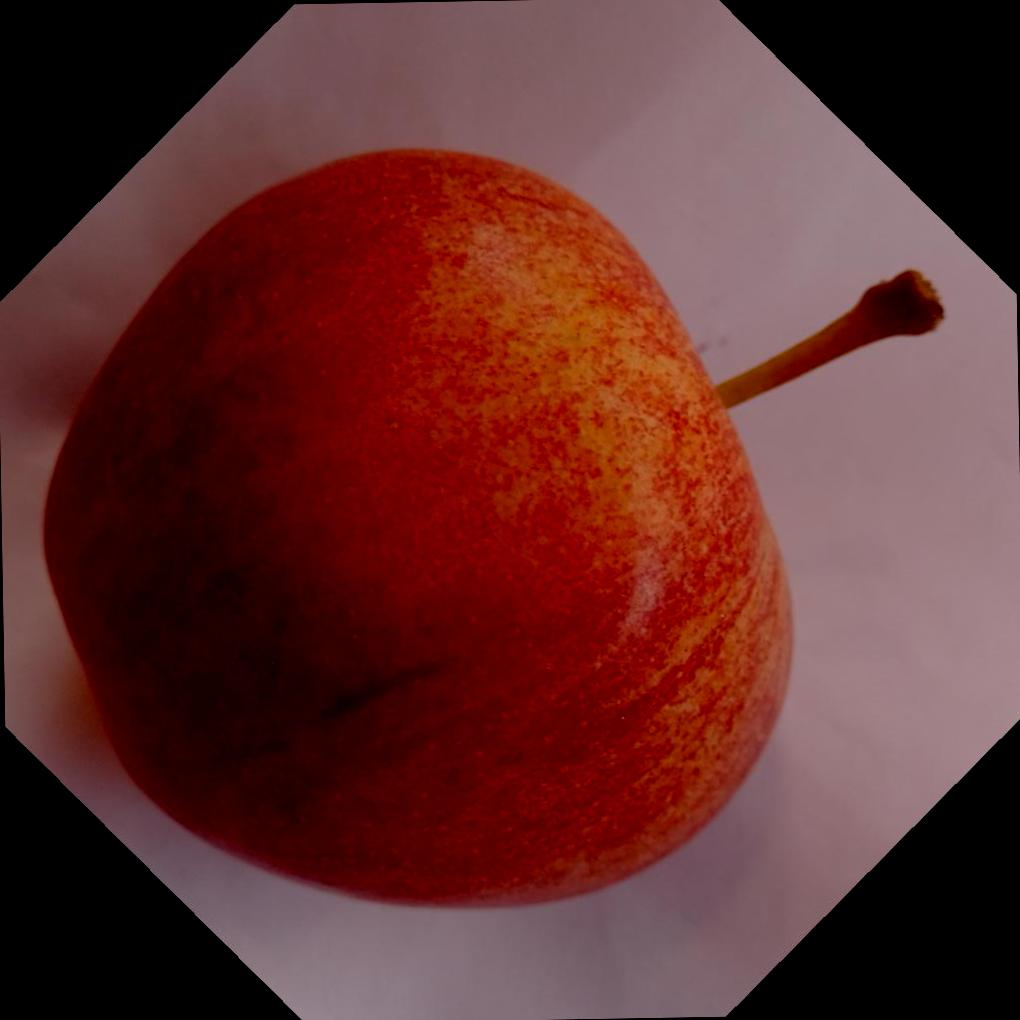FreshGuava: (37, 144, 792, 910)
